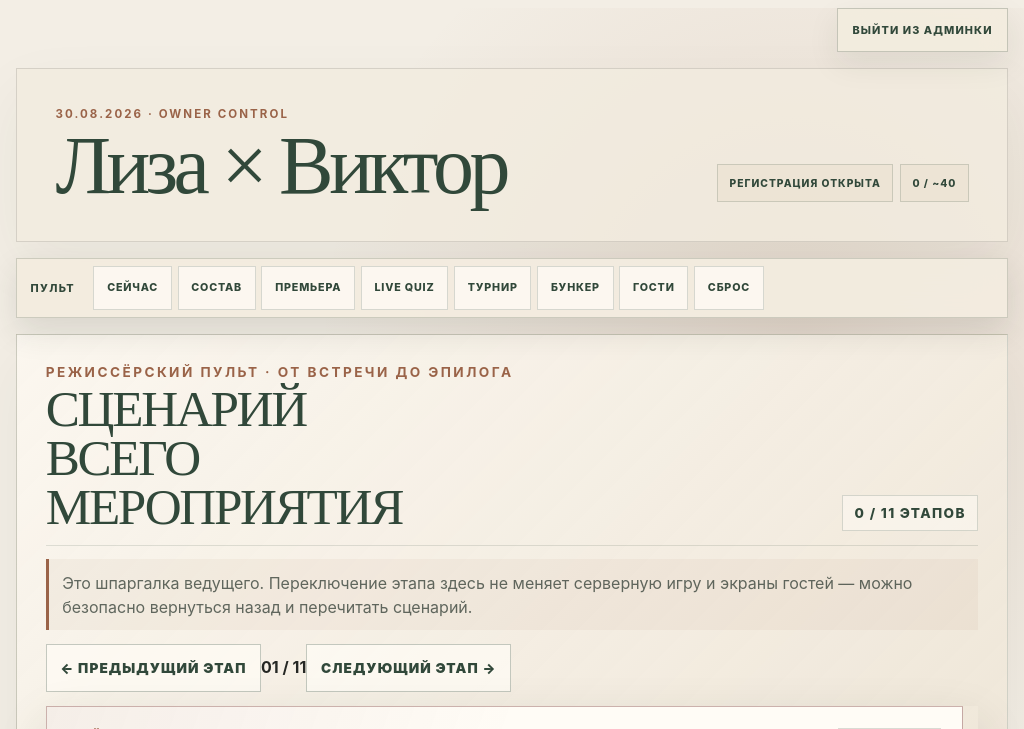
it: AdminPage › keeps the dashboard open and shows a visible error when local sign-out fails
What coordinates should you click on to do the following:
click the button "ВЫЙТИ ИЗ АДМИНКИ"
I would click on:
 (923, 30)
Its box is [837,8,1008,52].
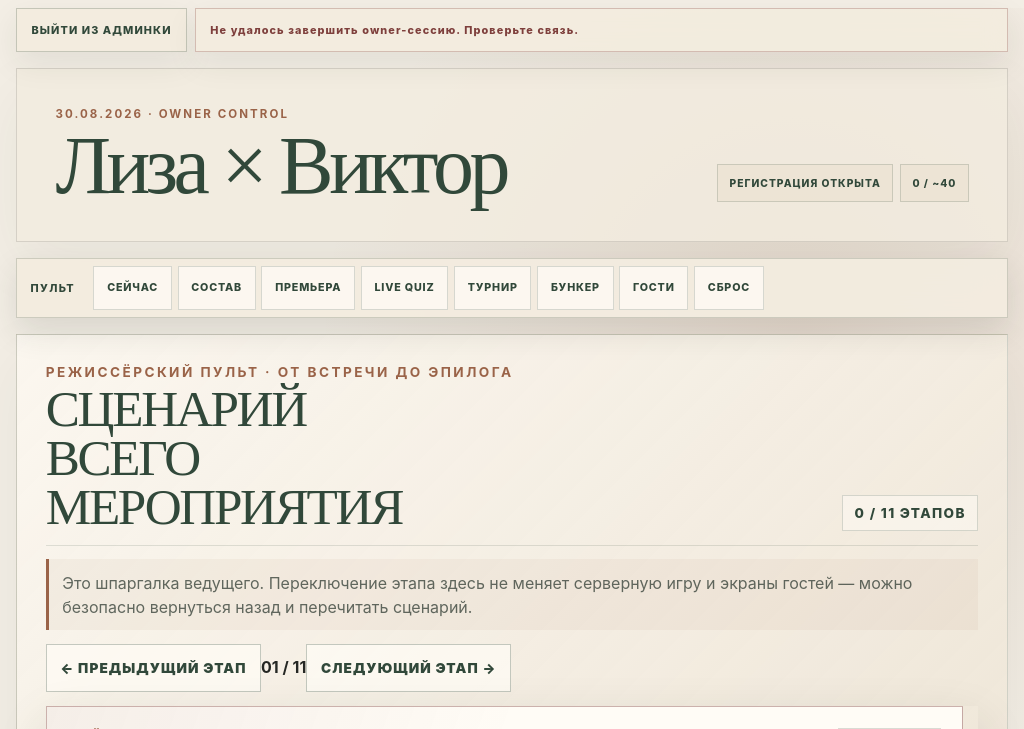
expect the heading "Лиза × Виктор" is shown: met, box [55,129,506,202]
expect the message reads "Не удалось завершить owner-сессию. Проверьте связь.": met, box [210,23,579,37]
